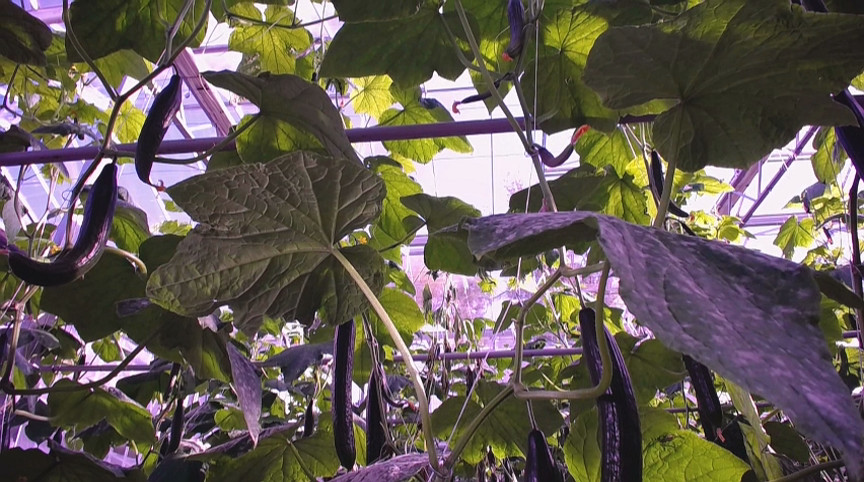cucumber: (9, 163, 120, 285), (578, 309, 644, 482), (134, 75, 183, 185), (331, 322, 357, 469), (682, 355, 723, 429), (526, 430, 558, 482)
